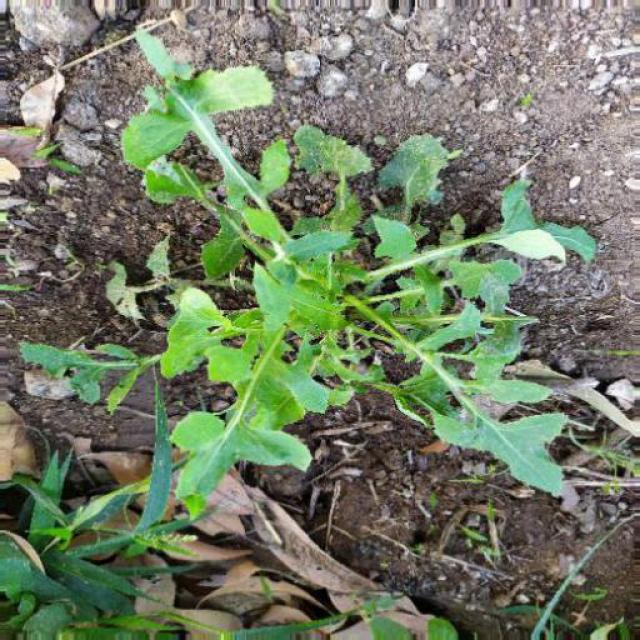weed: (99, 58, 589, 526)
